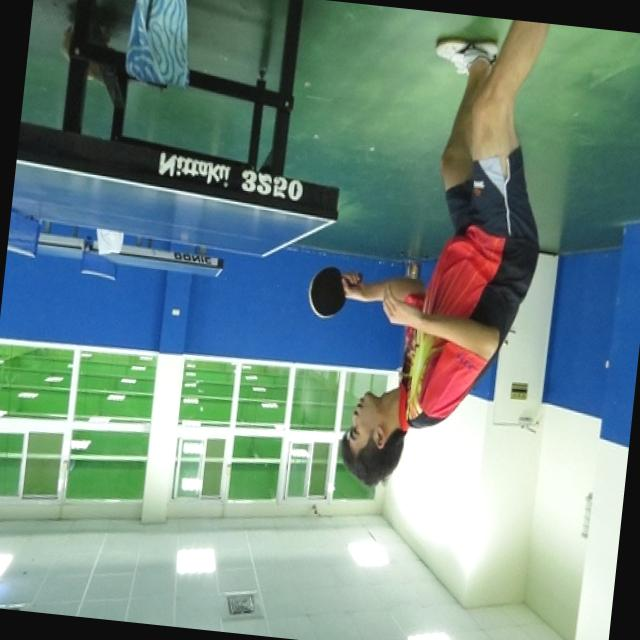TT Net: (5, 200, 43, 254), (76, 244, 119, 279)
TT Racket: (308, 264, 358, 318)
TT Table: (6, 154, 336, 268), (7, 226, 220, 277)
